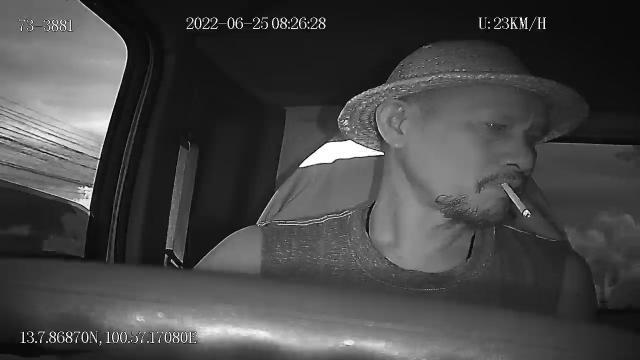Smoking: (500, 180, 530, 220)
